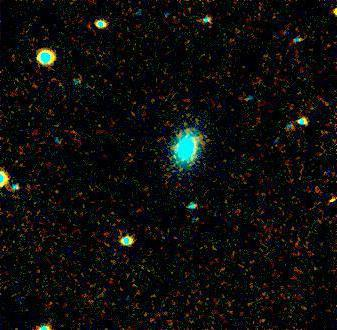star: (315, 186, 337, 216)
